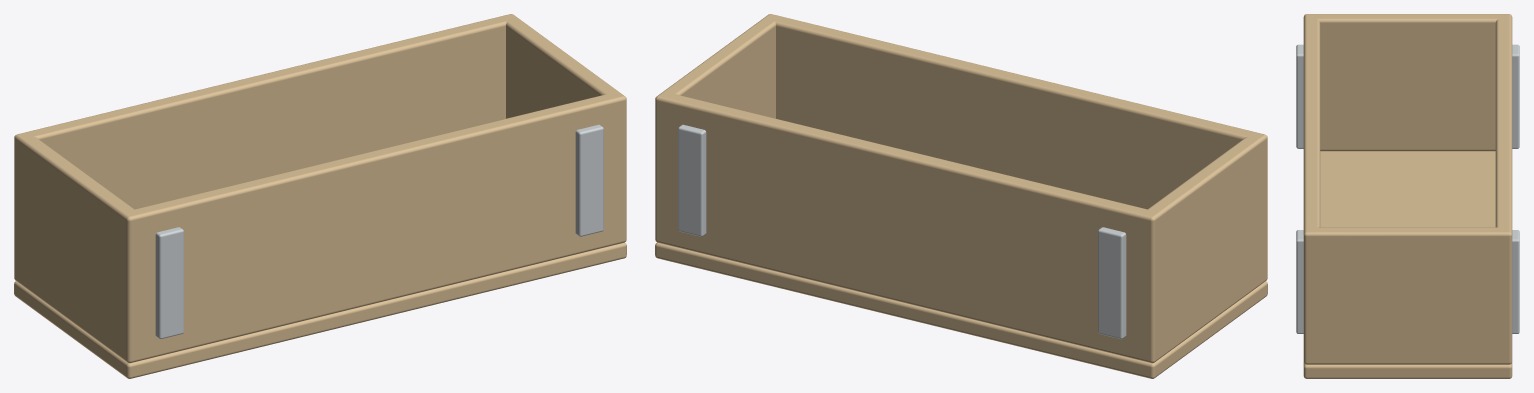
File: candlemaking-and-soap-workshop-soap-loaf-mold-ab9ddc4f__30676.glb
3 views of the same model, side by side, from view 1: azimuth 30°, elevation 25°; view 2: azimuth 150°, elevation 25°; view 3: azimuth 270°, elevation 25° (orthographic). The views are drawn at different scales.
Parts seen in each view (by area): view 1: soap-loaf-mold; view 2: soap-loaf-mold; view 3: soap-loaf-mold.
Part boxes in pixels (x1,y1,x2,y2): soap-loaf-mold: [14, 14, 626, 378]; soap-loaf-mold: [655, 14, 1267, 378]; soap-loaf-mold: [1296, 14, 1519, 378].
Bounding box in the file's own units: 0.5 × 0.155 × 0.214.
